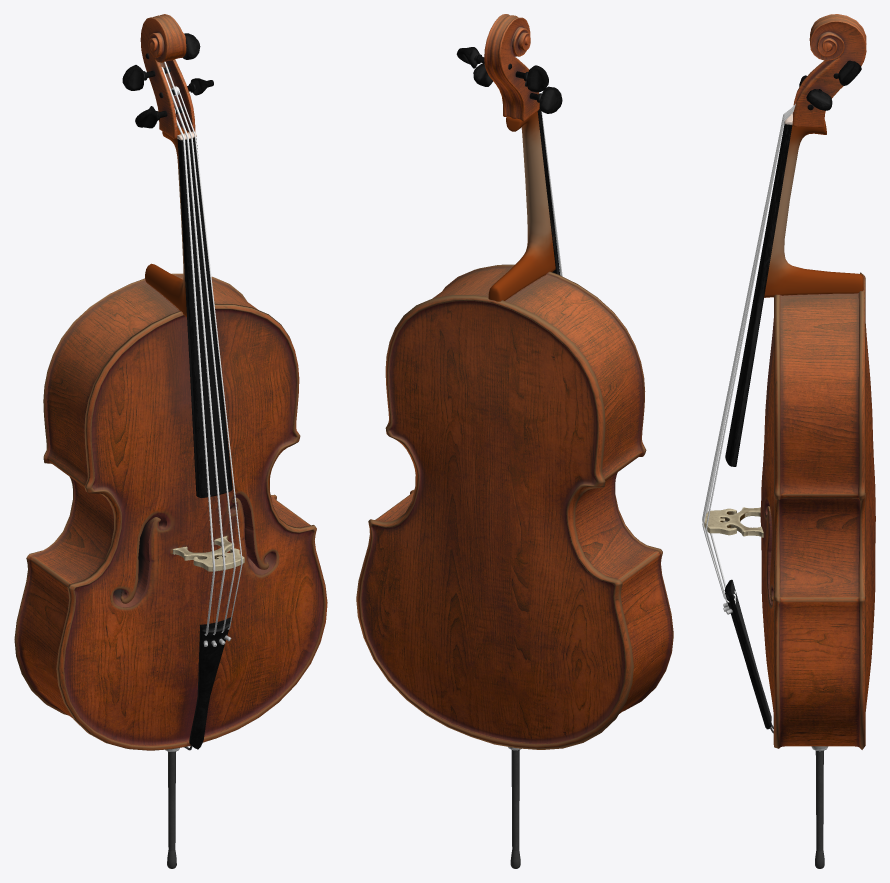
The model's file is cello.glb.
3 renders of one model, left to right at view 1: azimuth 30°, elevation 25°; view 2: azimuth 150°, elevation 25°; view 3: azimuth 270°, elevation 25°, orthographic.
Visible parts, largest first — view 1: cello; view 2: cello; view 3: cello.
Boxes of the visible parts, x1,y1,x2,y2 form: cello: (14,14,327,868); cello: (356,14,673,868); cello: (702,14,875,868).
Bounding box in the file's own units: 0.4762 × 1.4 × 0.2598.
2 materials, 2 textured.
